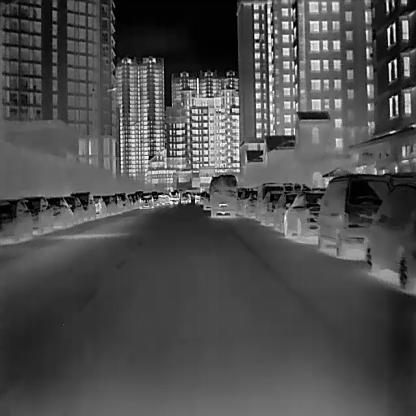car: (316, 174, 388, 259), (366, 183, 415, 296), (284, 194, 324, 240), (0, 197, 32, 242), (21, 194, 54, 233), (45, 196, 73, 231), (274, 192, 296, 232), (261, 190, 284, 225), (69, 191, 96, 220), (64, 196, 83, 224), (90, 192, 106, 218), (101, 194, 117, 214), (139, 192, 153, 209), (168, 190, 179, 205), (202, 192, 210, 209), (180, 192, 188, 204)
truck: (210, 172, 239, 216)
